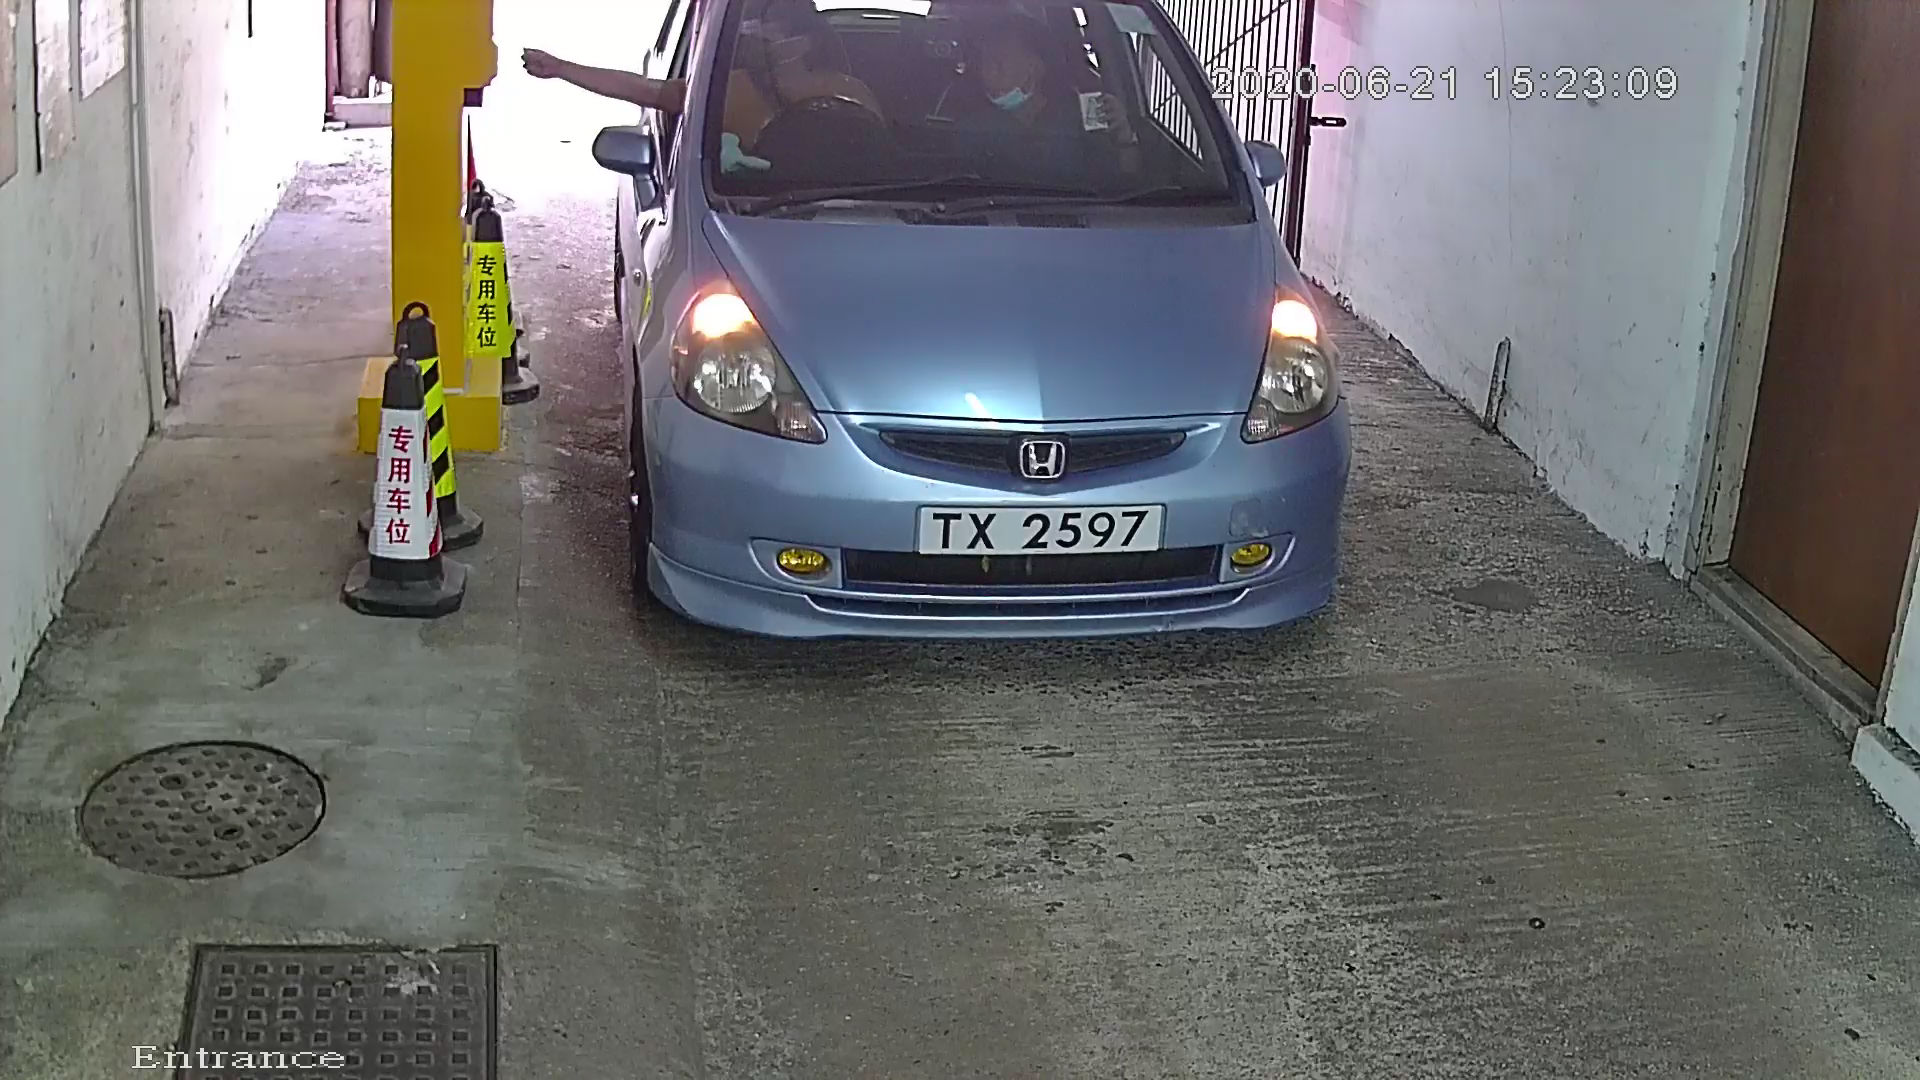privatecar: (549, 1, 1395, 715)
